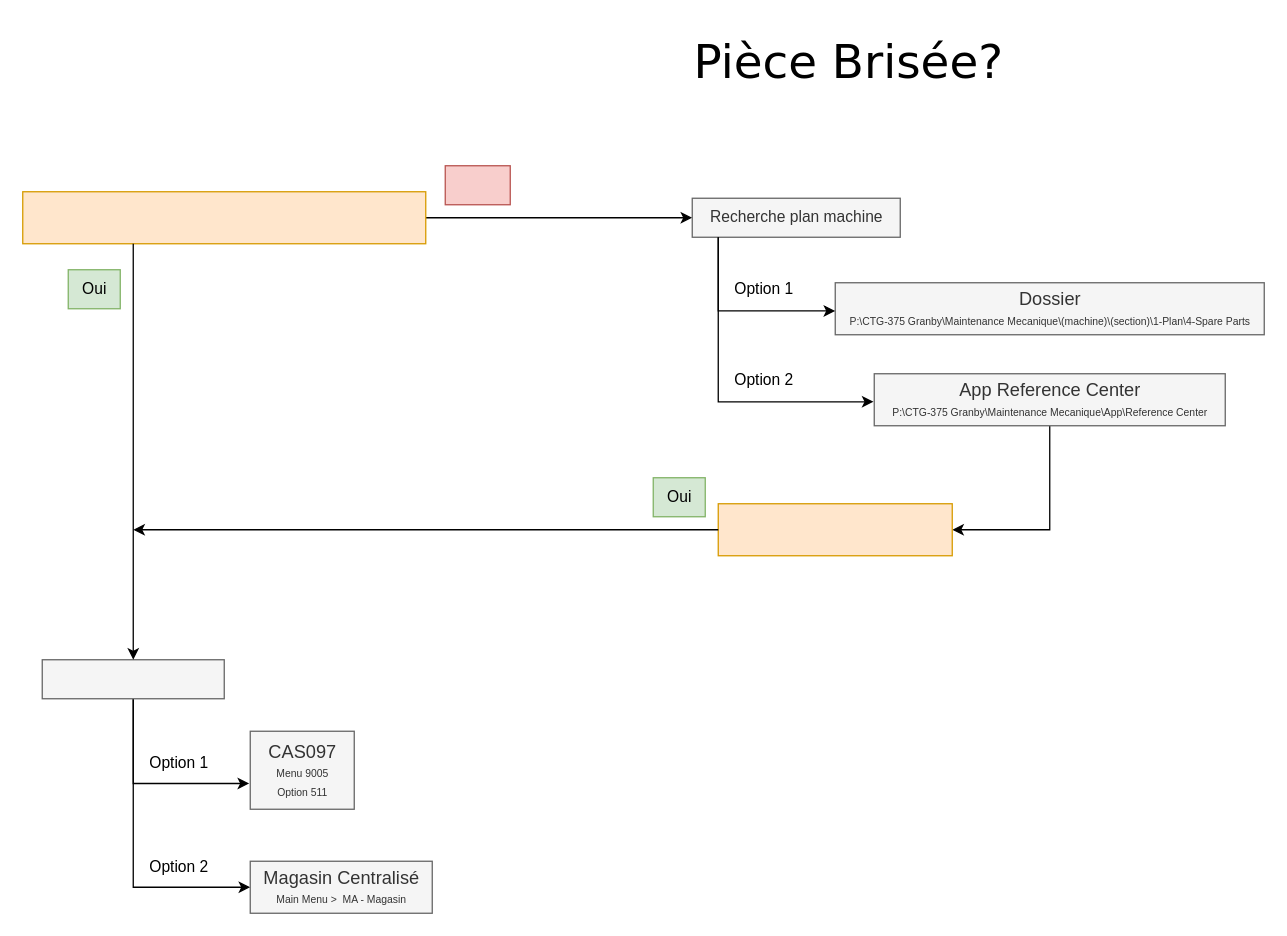
This 1287x936 diagram has some shape labels left out. The shapes that lost their labels are listed below. From the top down, each one's box as (x1, y1, x2, y2) in pixels, then its label:
(444, 164, 510, 205): Non
(21, 190, 426, 244): Numéro de pièce en main?
(717, 502, 952, 556): Numéro trouvé
(41, 658, 224, 699): Recherche Inventaire
